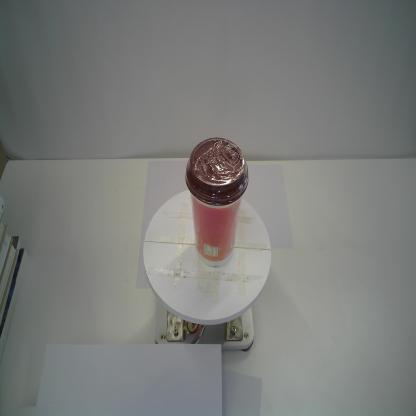Instant Drink: (184, 136, 252, 267)
